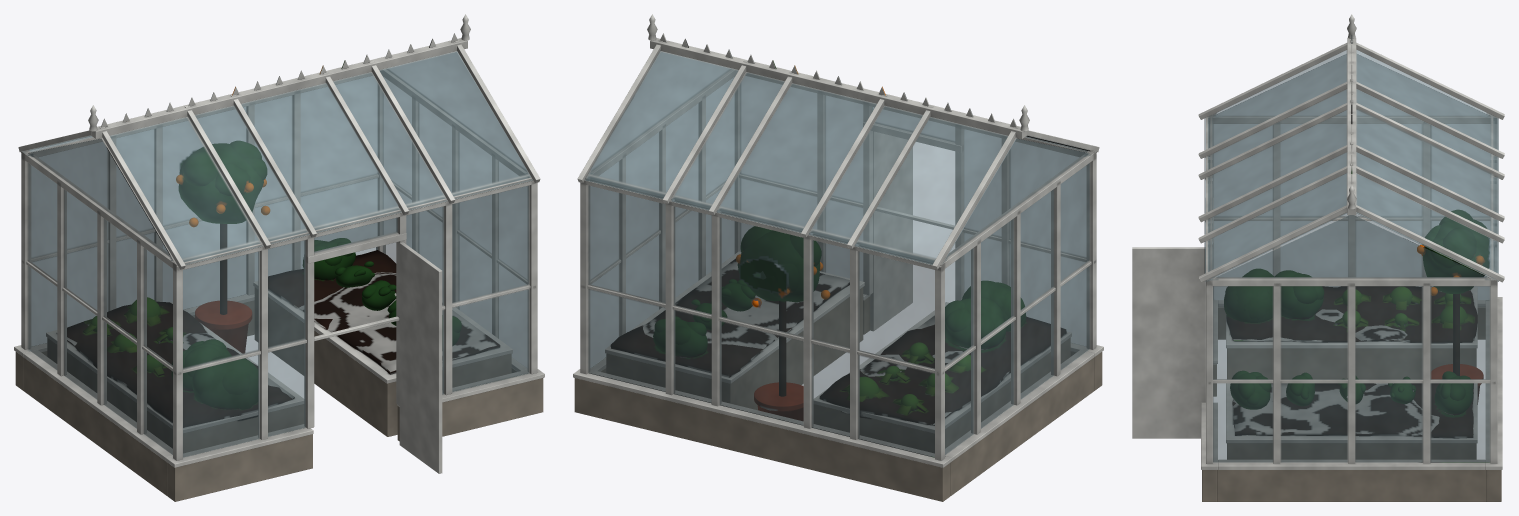
Rendered from glasshouse.glb.
3 renders of one model, left to right at view 1: azimuth 30°, elevation 25°; view 2: azimuth 150°, elevation 25°; view 3: azimuth 270°, elevation 25°, orthographic. The views are drawn at different scales.
Visible parts, largest first — view 1: glasshouse; view 2: glasshouse; view 3: glasshouse.
Boxes of the visible parts, box(x1,y1,x2,y2) form: glasshouse: box(14, 14, 544, 501); glasshouse: box(573, 14, 1103, 501); glasshouse: box(1132, 14, 1504, 501).
Bounding box in the file's own units: 4.14 × 3.52 × 3.73.
Materials: 2 (2 with a texture image).
